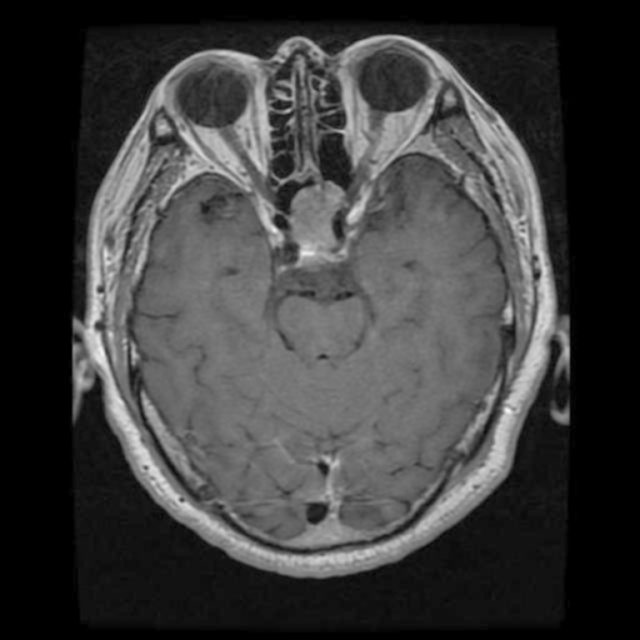no tumor: (290, 172, 351, 262)
